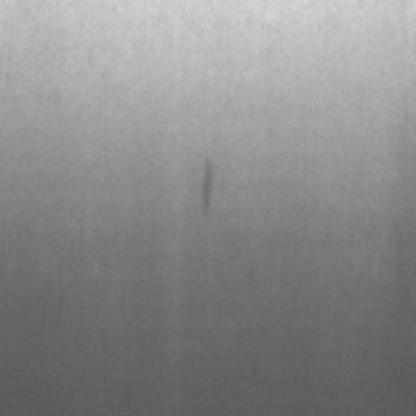inclusion: (192, 147, 223, 222)
